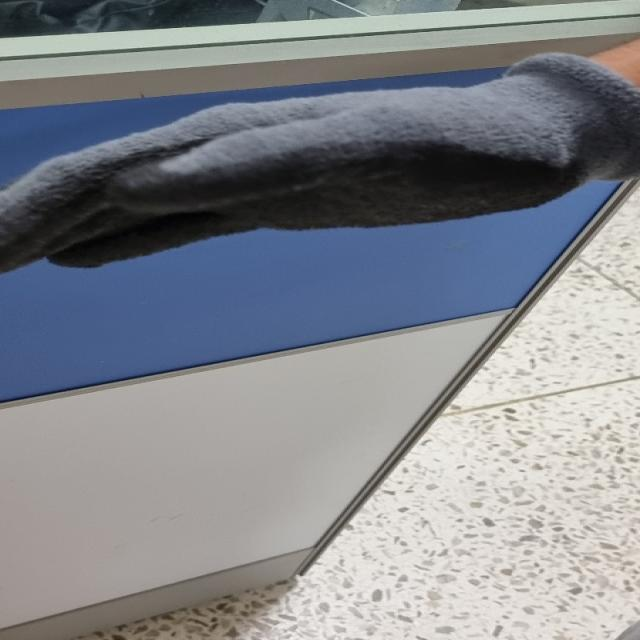Gloves: (1, 75, 625, 274)
